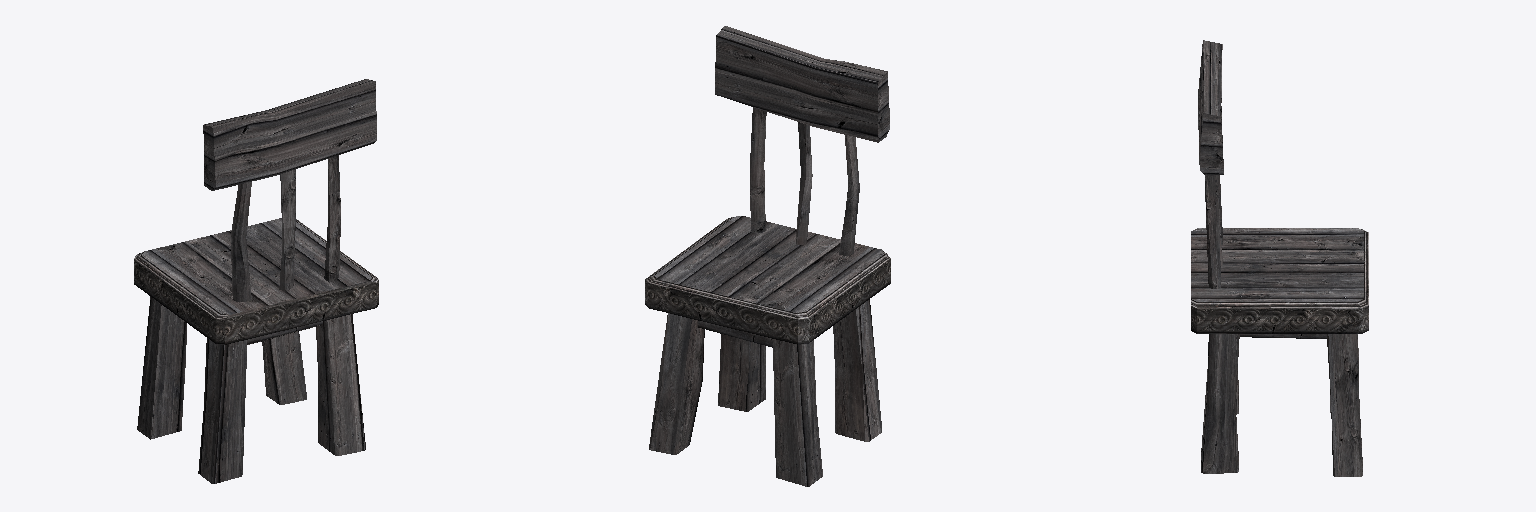
The picture shows the model from 3 angles: view 1: azimuth 30°, elevation 25°; view 2: azimuth 150°, elevation 25°; view 3: azimuth 270°, elevation 25°; orthographic projection.
Parts seen in each view (by area): view 1: Default_Layer; view 2: Default_Layer; view 3: Default_Layer.
Boxes of the visible parts, <box> form: Default_Layer: <box>134,79,378,483</box>; Default_Layer: <box>645,26,890,486</box>; Default_Layer: <box>1191,40,1368,476</box>.
Size of the model in its own units: 1.35 by 2.9 by 1.28.
1 materials, 1 textured.